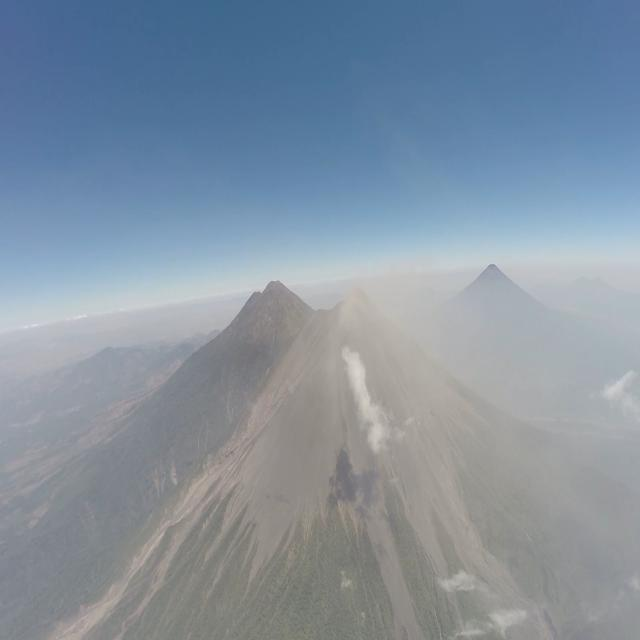Summit: (334, 286, 376, 313)
